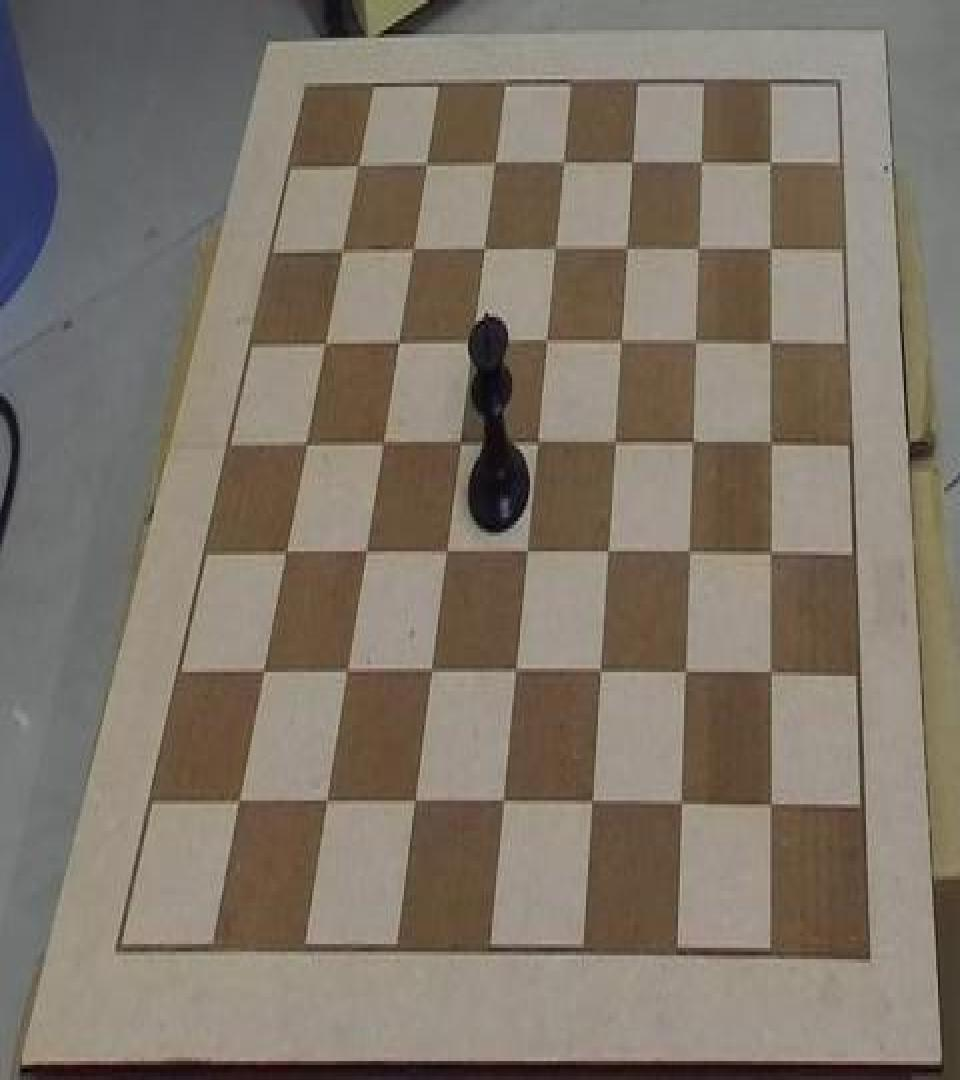xcorner: (251, 647, 271, 686), (761, 142, 781, 180), (691, 142, 711, 180), (622, 142, 642, 180), (553, 144, 573, 182), (484, 144, 504, 182), (416, 144, 436, 182), (349, 146, 369, 184), (761, 226, 781, 264), (688, 226, 708, 264), (616, 228, 636, 266), (545, 228, 565, 266), (474, 228, 494, 266), (403, 228, 423, 266), (332, 228, 352, 266), (761, 321, 781, 359), (685, 321, 705, 359), (610, 321, 630, 359), (536, 321, 556, 359), (462, 321, 482, 359), (388, 321, 408, 359), (315, 321, 335, 359), (761, 421, 781, 459), (682, 421, 702, 459), (604, 421, 624, 459), (526, 421, 546, 459), (449, 421, 469, 459), (372, 421, 392, 459), (295, 421, 315, 459), (761, 532, 781, 570), (679, 532, 699, 570), (597, 530, 617, 568), (515, 530, 535, 568), (435, 530, 455, 568), (354, 528, 374, 566), (274, 528, 294, 566), (762, 653, 782, 691), (675, 653, 695, 691), (589, 652, 609, 690), (504, 652, 524, 690), (419, 650, 439, 688), (335, 650, 355, 688), (762, 789, 782, 827), (671, 787, 691, 825), (581, 786, 601, 824), (491, 784, 511, 822), (402, 782, 422, 820), (314, 780, 334, 818), (226, 780, 246, 818)
